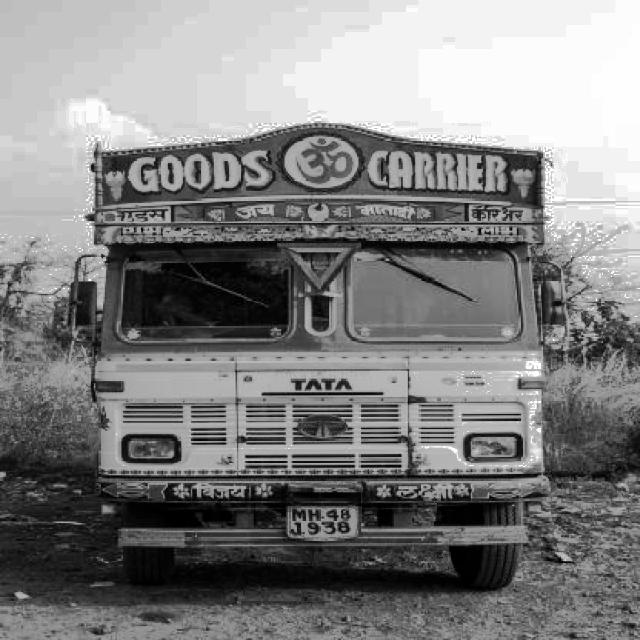HCV: (100, 125, 521, 604)
